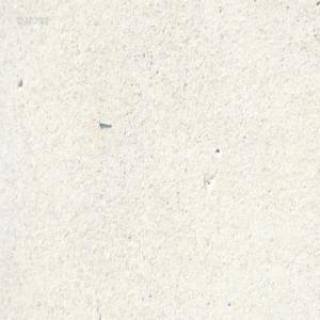Nailtrack_idkeyframe: (96, 117, 110, 126)
